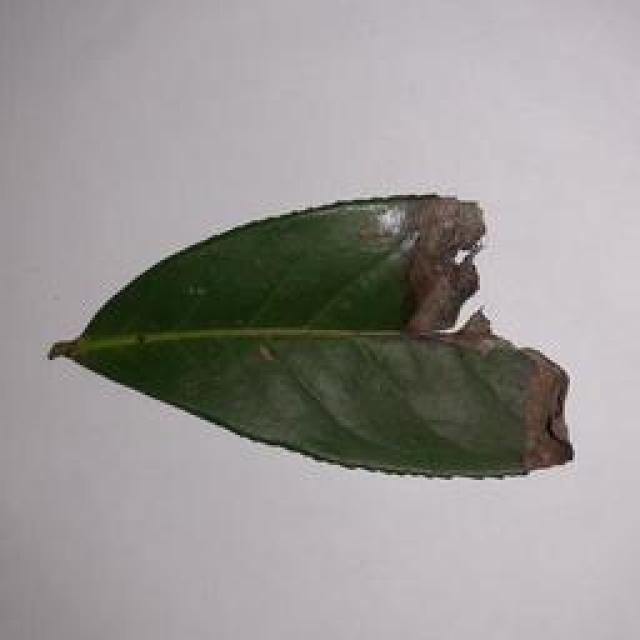Brown Blight: (37, 170, 597, 491)
